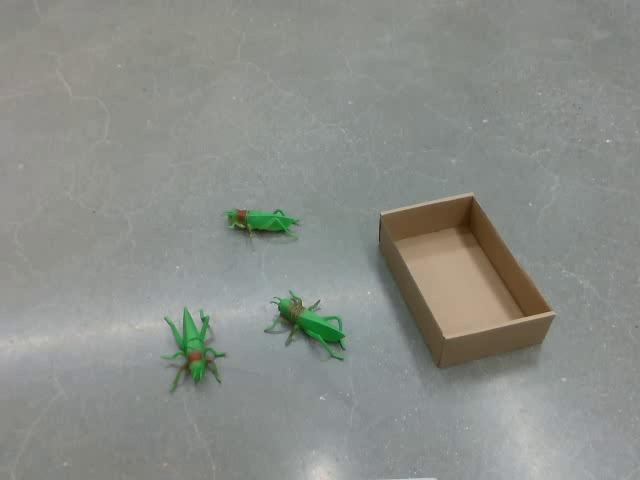box: (377, 191, 556, 368)
grasshopper: (263, 289, 347, 361), (160, 305, 226, 392), (223, 206, 300, 238)
